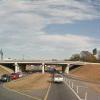Bridge: (1, 52, 85, 71)
